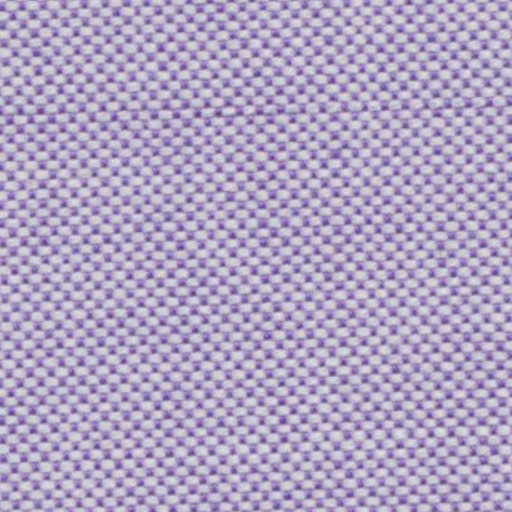TuoSha: (10, 70, 504, 124)
